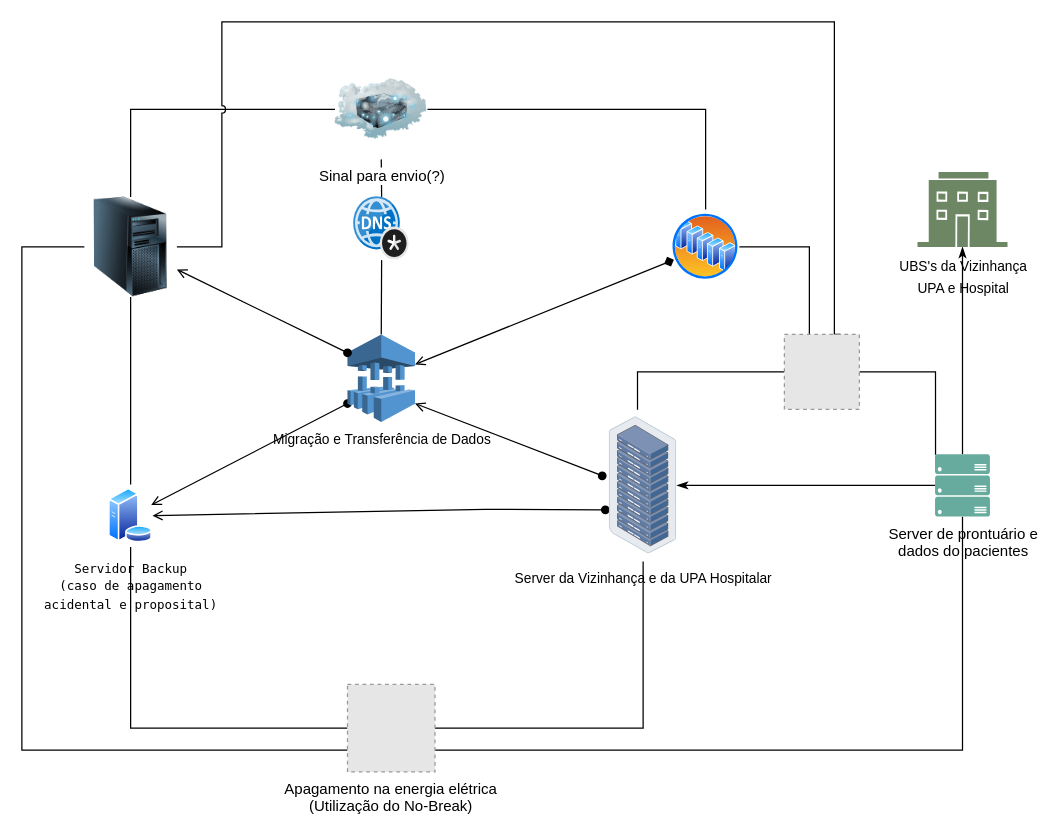
The diagram is 1059 pixels wide and 838 high, and some of its shapes have lost their labels. Grey dashed boxes stand in for pictures. The centre of each missing label's shape, as x and y in pixels:
"Privacidade Regional" belongs at point 381,228.
"Servidor em GUI" belongs at point 130,246.
"Servidor Geral da Saúde Municipal" belongs at point 705,246.
